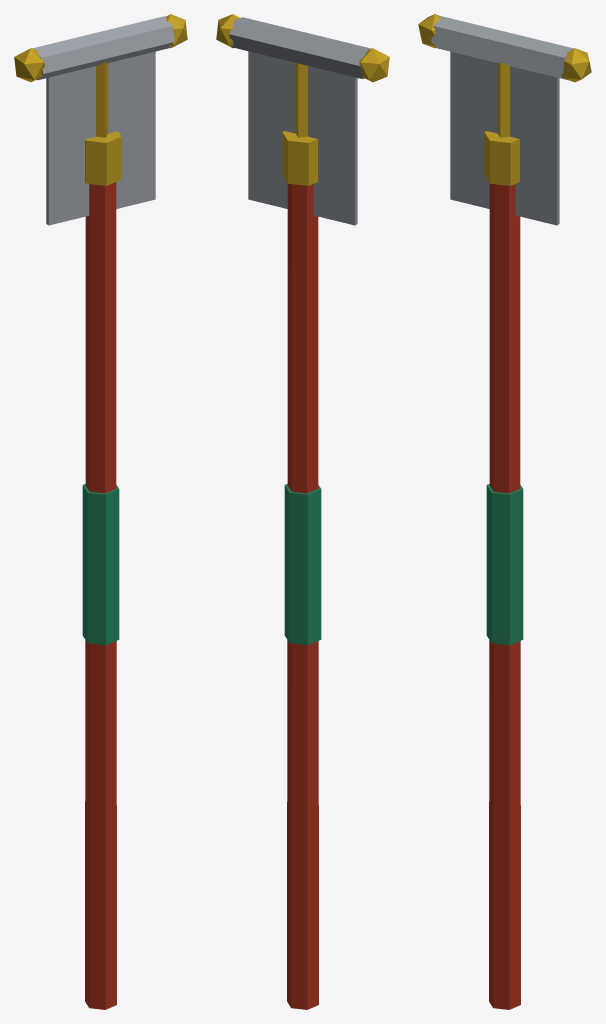
File: weapon_staff.glb
3 renders of one model, left to right at view 1: azimuth 30°, elevation 25°; view 2: azimuth 150°, elevation 25°; view 3: azimuth 330°, elevation 25°, orthographic.
Parts seen in each view (by area): view 1: dragon_weapon_staff; view 2: dragon_weapon_staff; view 3: dragon_weapon_staff.
Part boxes in pixels (left/top/right/bottom): dragon_weapon_staff: left=14, top=14, right=187, bottom=1009; dragon_weapon_staff: left=216, top=14, right=389, bottom=1009; dragon_weapon_staff: left=418, top=14, right=591, bottom=1009.
Bounding box in the file's own units: 0.2469 × 1.36 × 0.0522.
